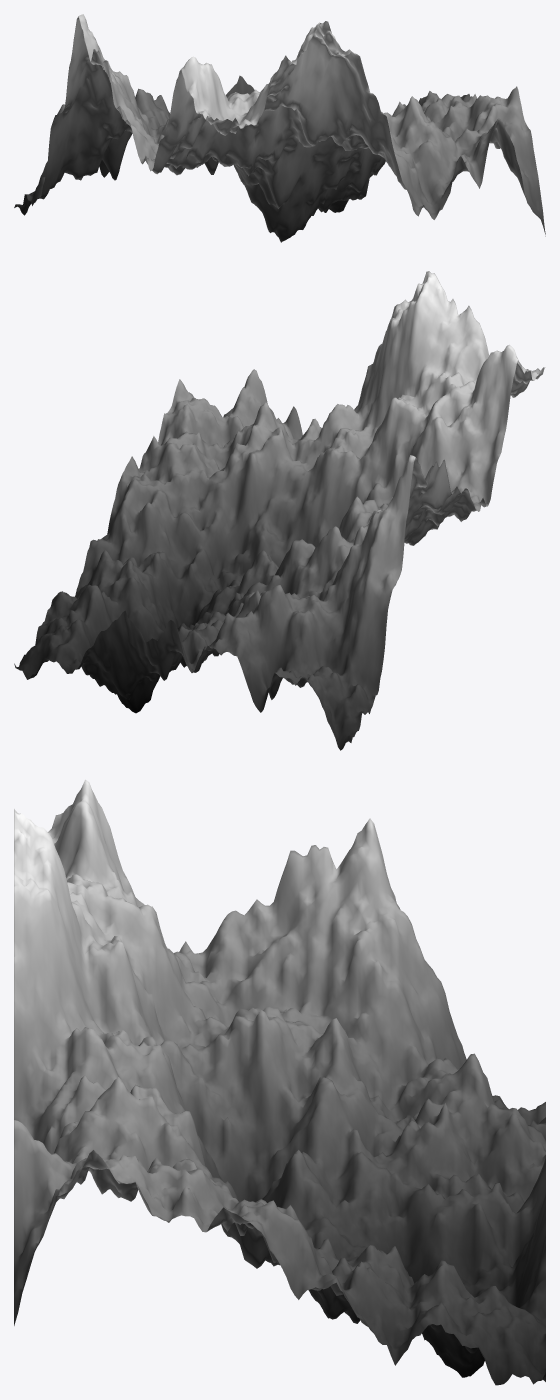
Rendered from synthetic_terrain.dae.
3 renders of one model, top to bottom at view 1: azimuth 30°, elevation 25°; view 2: azimuth 150°, elevation 25°; view 3: azimuth 270°, elevation 25°, orthographic. The views are drawn at different scales.
Parts seen in each view (by area): view 1: synthetic_terrain; view 2: synthetic_terrain; view 3: synthetic_terrain.
Boxes of the visible parts, <box> form: synthetic_terrain: <box>14,14,545,242</box>; synthetic_terrain: <box>14,271,545,750</box>; synthetic_terrain: <box>14,779,545,1385</box>.
Bounding box in the file's own units: 0.9922 × 0.9922 × 0.9902.
1 material, 1 textured.
